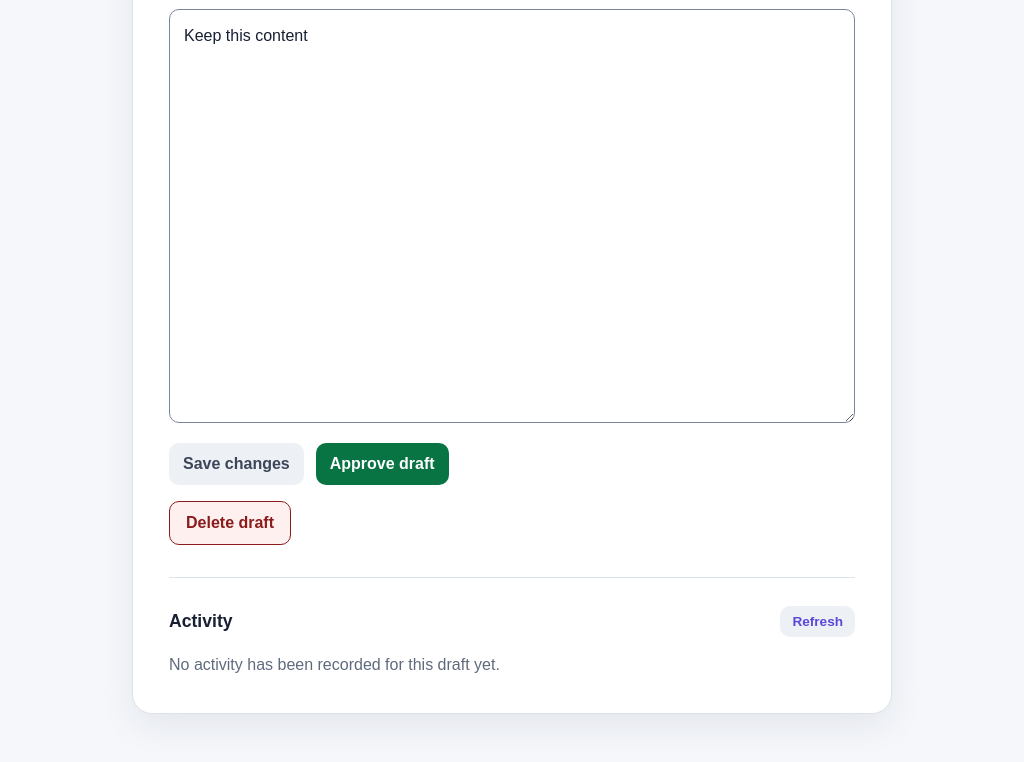
Test: keeps content and allows retry when deletion fails
This screenshot has width=1024, height=762.
(page scrolled)
Click the button "Delete draft" at coordinates (230, 523), box 169,501 -> 291,545
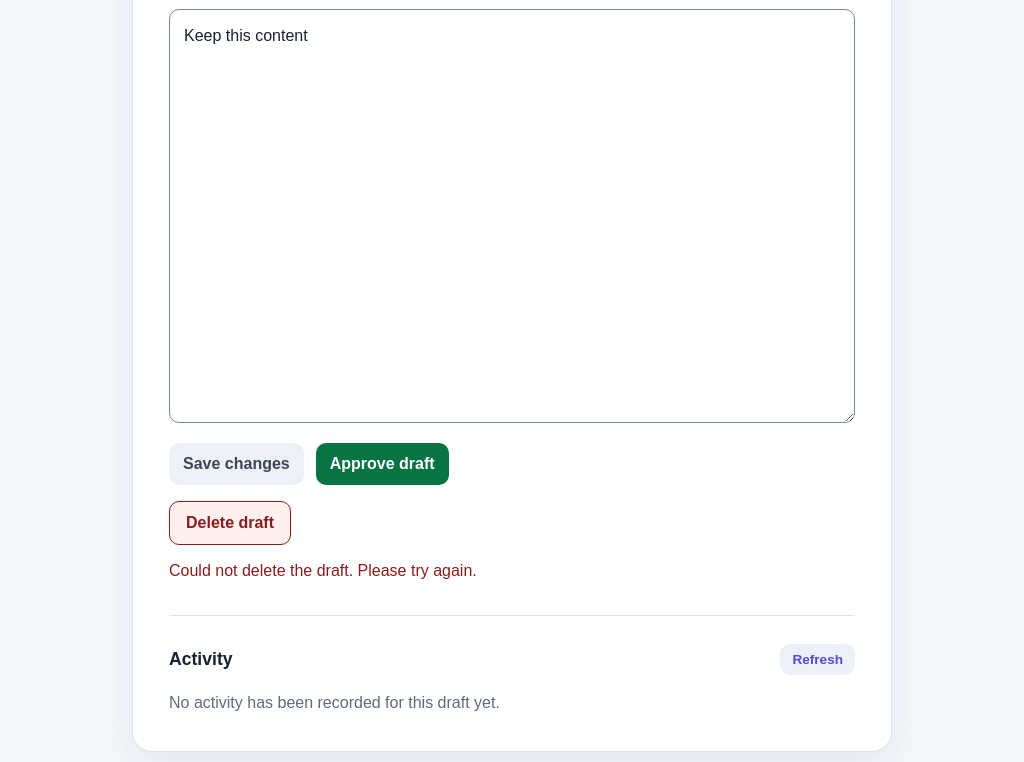
Check: the text box labelled "Post draft" holds "Keep this content", box 169,9 -> 855,423
Check: the message "Could not delete the draft. Please try again." is shown, box 169,562 -> 477,579
